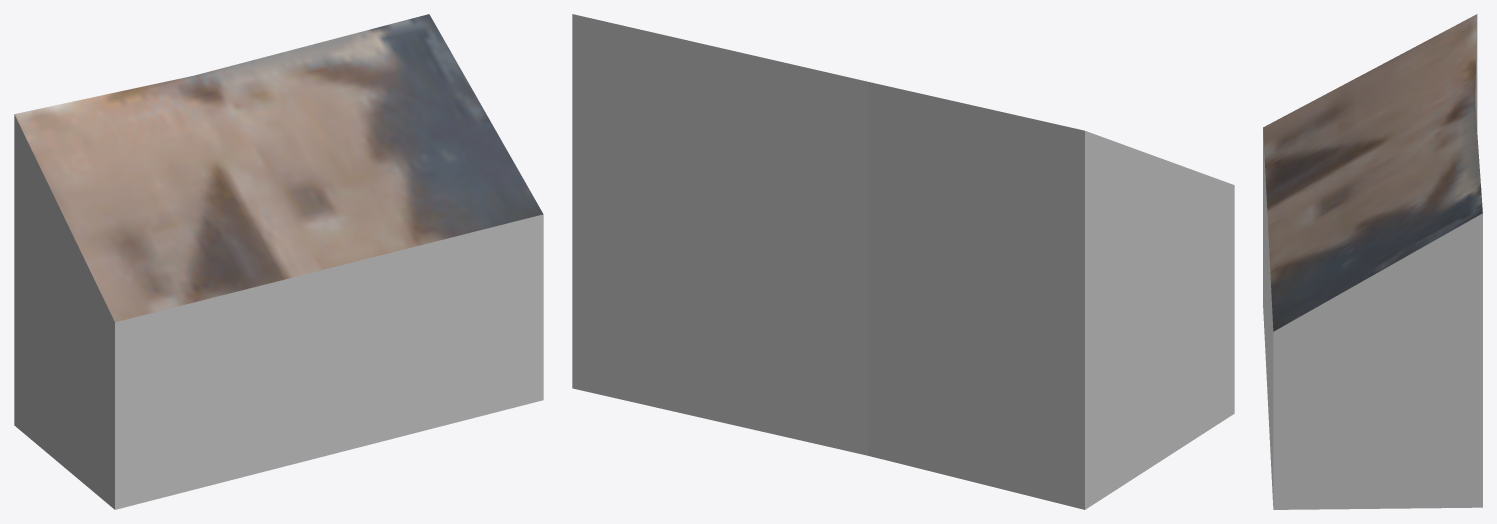
The model's file is DEBW_0010007Tx7N.gltf.
The picture shows the model from 3 angles, left to right: view 1: azimuth 30°, elevation 25°; view 2: azimuth 150°, elevation 25°; view 3: azimuth 270°, elevation 25°; orthographic projection. The views are drawn at different scales.
Parts seen in each view (by area): view 1: Z_UP; view 2: Z_UP; view 3: Z_UP.
Boxes of the visible parts, x1,y1,x2,y2 form: Z_UP: (14,14,543,509); Z_UP: (572,14,1234,509); Z_UP: (1263,14,1482,509).
Bounding box in the file's own units: 16.86 × 11.56 × 7.72.
2 materials, 1 textured.
